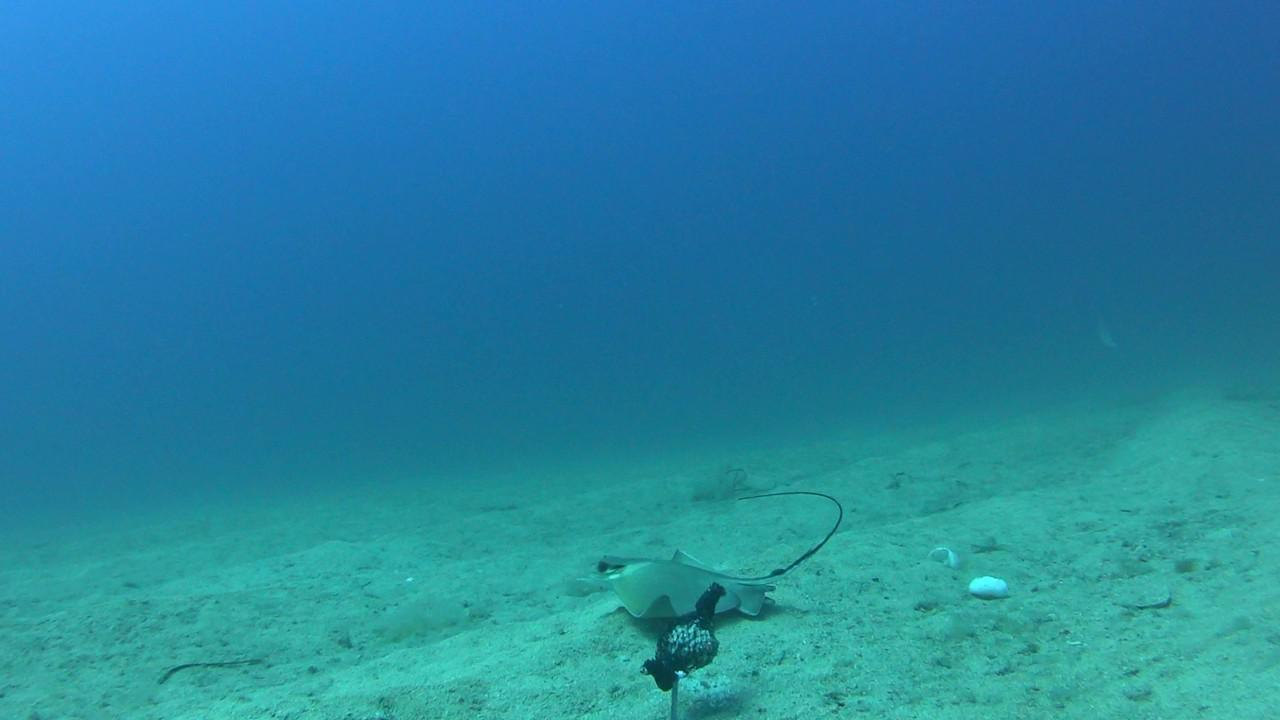myliobatis: (552, 472, 856, 634)
